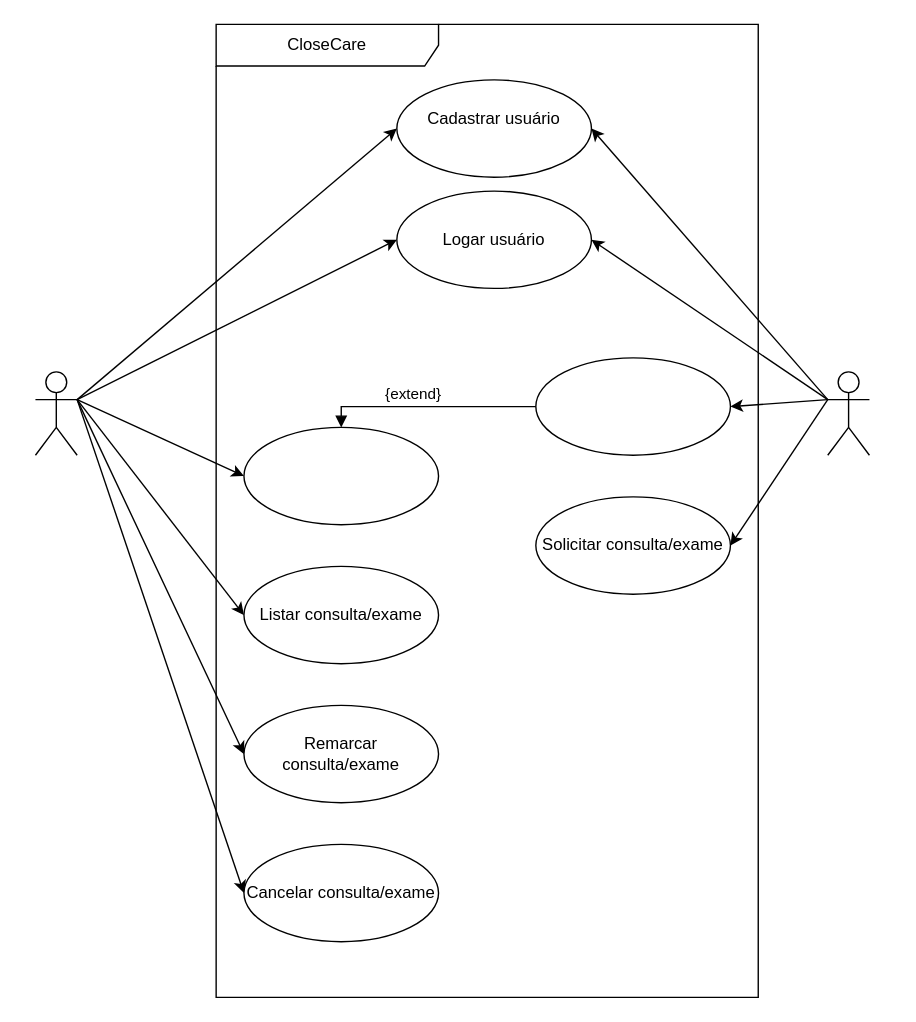
Image size: 916x1022. Some labels were removed from this diagram. Here are the shapes that lost their labels. From the top down, the box of each, then its label:
(34, 370, 77, 455): Paciente
(534, 357, 730, 455): Disponibilizar agenda
(826, 370, 869, 455): Profissional
(243, 426, 439, 525): Agendar consulta/exame
